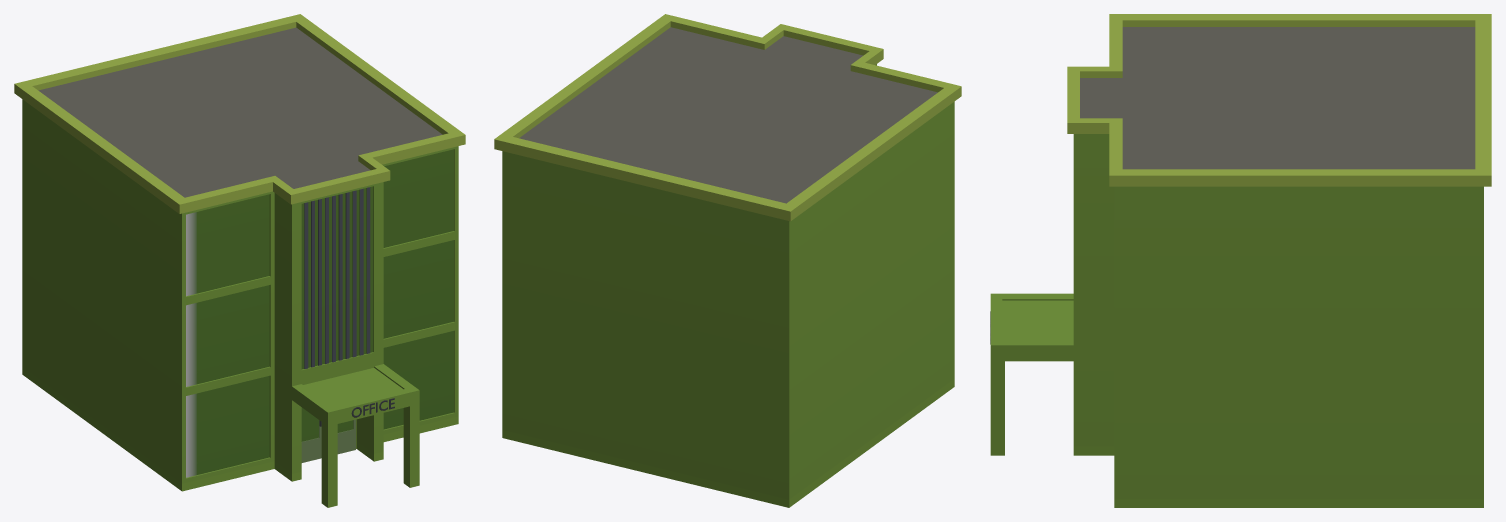
Rendered from Office_01.fbx.
The picture shows the model from 3 angles, left to right: view 1: azimuth 30°, elevation 25°; view 2: azimuth 150°, elevation 25°; view 3: azimuth 270°, elevation 25°; orthographic projection. The views are drawn at different scales.
Parts seen in each view (by area): view 1: Office_01; view 2: Office_01; view 3: Office_01.
Part boxes in pixels (x1,y1,x2,y2): Office_01: (14, 14, 465, 507); Office_01: (494, 14, 961, 507); Office_01: (990, 14, 1491, 507).
Bounding box in the file's own units: 8.27 × 8 × 10.84.
